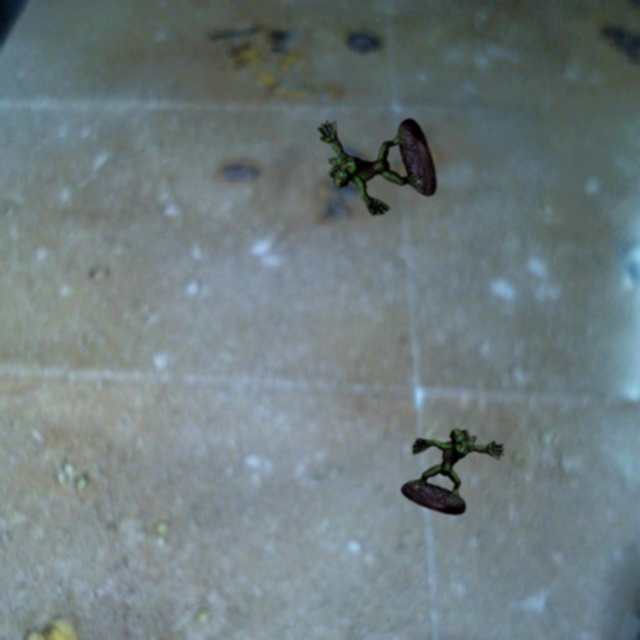pieza_juego: (317, 118, 436, 215), (401, 428, 504, 514)
